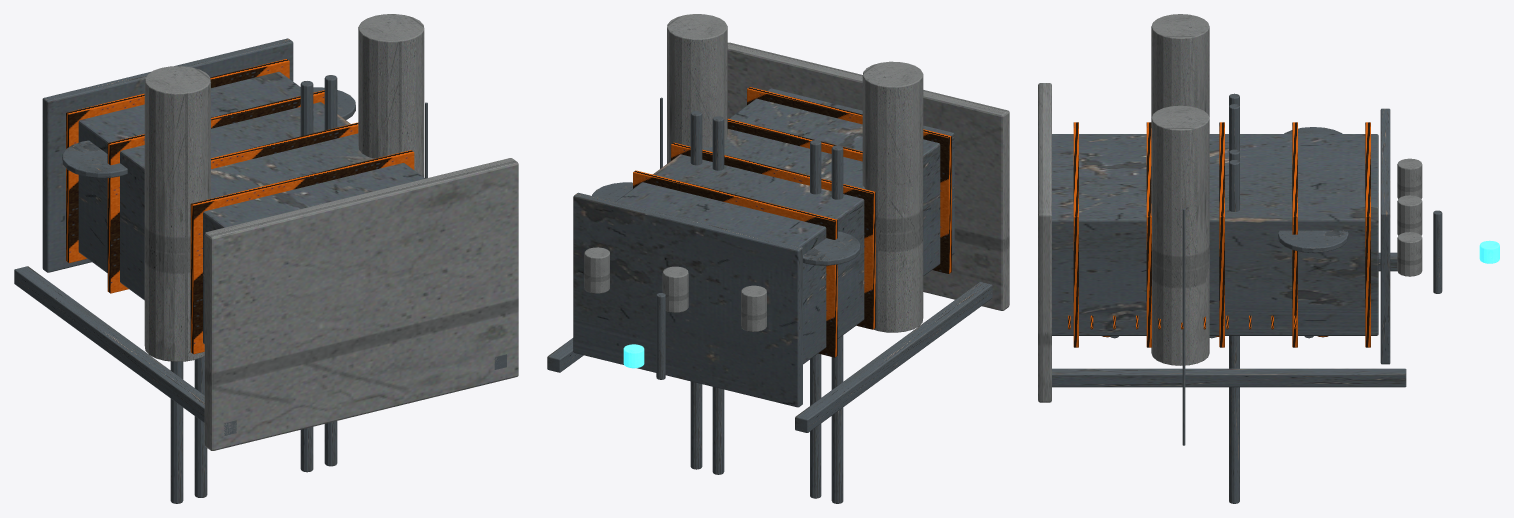
File: refinery_stack.glb
The picture shows the model from 3 angles, left to right: view 1: azimuth 30°, elevation 25°; view 2: azimuth 150°, elevation 25°; view 3: azimuth 270°, elevation 25°; orthographic projection. The views are drawn at different scales.
Parts seen in each view (by area): view 1: Foundation, MainCore, ProcessTank_-3.95, ProcessTank_3.95, RoofDeck, CornerFrame_-3.95, ServiceBand_3.2, ServiceBand_9.5, ServiceBand_7.4, ServiceBand_5.3, PipeRise_-2.25, TankCap_-3.95 (+3 smaller); view 2: RoofDeck, MainCore, Foundation, ProcessTank_-3.95, ProcessTank_3.95, CornerFrame_-3.95, ServiceBand_7.4, ServiceBand_5.3, ServiceBand_1.1, PipeRise_-2.25, PipeRise_-1.55, PipeRise_1.55 (+9 smaller); view 3: MainCore, ProcessTank_3.95, CornerFrame_3.95, ProcessTank_-3.95, Foundation, RoofDeck, PipeRise_2.25, TankCap_3.95, ServiceBand_9.5, ServiceBand_1.1, ServiceBand_3.2, ServiceBand_5.3 (+7 smaller).
Part boxes in pixels (x1=…): Foundation: x1=204, y1=158, x2=518, y2=450; MainCore: x1=78, y1=71, x2=425, y2=343; ProcessTank_-3.95: x1=144, y1=66, x2=210, y2=361; ProcessTank_3.95: x1=358, y1=14, x2=424, y2=177; RoofDeck: x1=42, y1=38, x2=293, y2=272; CornerFrame_-3.95: x1=14, y1=266, x2=236, y2=435; ServiceBand_3.2: x1=190, y1=150, x2=414, y2=354; ServiceBand_9.5: x1=66, y1=59, x2=289, y2=263; ServiceBand_7.4: x1=107, y1=90, x2=324, y2=293; ServiceBand_5.3: x1=211, y1=122, x2=358, y2=168; PipeRise_-2.25: x1=170, y1=361, x2=183, y2=503; TankCap_-3.95: x1=62, y1=140, x2=127, y2=178; RoofDeck: x1=573, y1=192, x2=802, y2=407; MainCore: x1=616, y1=88, x2=954, y2=364; Foundation: x1=727, y1=42, x2=1009, y2=310; ProcessTank_-3.95: x1=862, y1=61, x2=923, y2=332; ProcessTank_3.95: x1=667, y1=14, x2=727, y2=163; CornerFrame_-3.95: x1=795, y1=282, x2=992, y2=432; ServiceBand_7.4: x1=633, y1=170, x2=837, y2=357; ServiceBand_5.3: x1=671, y1=142, x2=875, y2=329; ServiceBand_1.1: x1=747, y1=87, x2=951, y2=273; PipeRise_-2.25: x1=831, y1=145, x2=843, y2=503; PipeRise_-1.55: x1=810, y1=140, x2=821, y2=498; PipeRise_1.55: x1=712, y1=116, x2=724, y2=474; MainCore: x1=1052, y1=134, x2=1378, y2=335; ProcessTank_3.95: x1=1151, y1=105, x2=1209, y2=365; CornerFrame_3.95: x1=1052, y1=368, x2=1406, y2=387; ProcessTank_-3.95: x1=1151, y1=14, x2=1209, y2=117; Foundation: x1=1038, y1=83, x2=1051, y2=402; RoofDeck: x1=1380, y1=108, x2=1390, y2=364; PipeRise_2.25: x1=1229, y1=160, x2=1239, y2=503; TankCap_3.95: x1=1278, y1=230, x2=1348, y2=252; ServiceBand_9.5: x1=1365, y1=122, x2=1370, y2=347; ServiceBand_1.1: x1=1073, y1=122, x2=1078, y2=347; ServiceBand_3.2: x1=1146, y1=122, x2=1151, y2=347; ServiceBand_5.3: x1=1219, y1=122, x2=1224, y2=347.
Bounding box in the file's own units: 9 × 12.61 × 13.29.
Materials: 5 (5 with a texture image).
